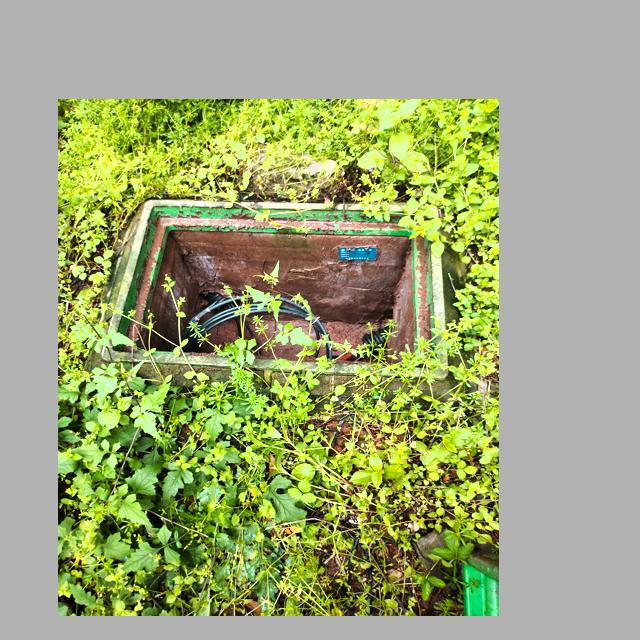lose: (101, 190, 452, 395)
